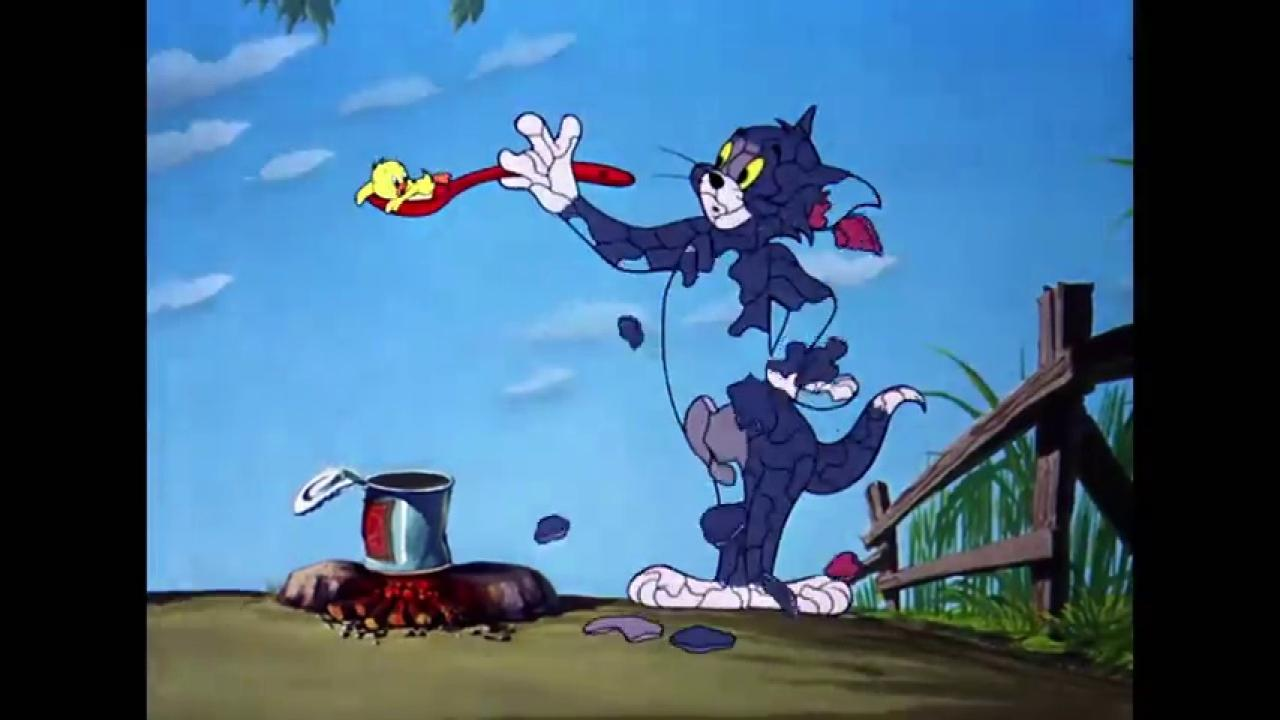Tom: (498, 104, 931, 613)
